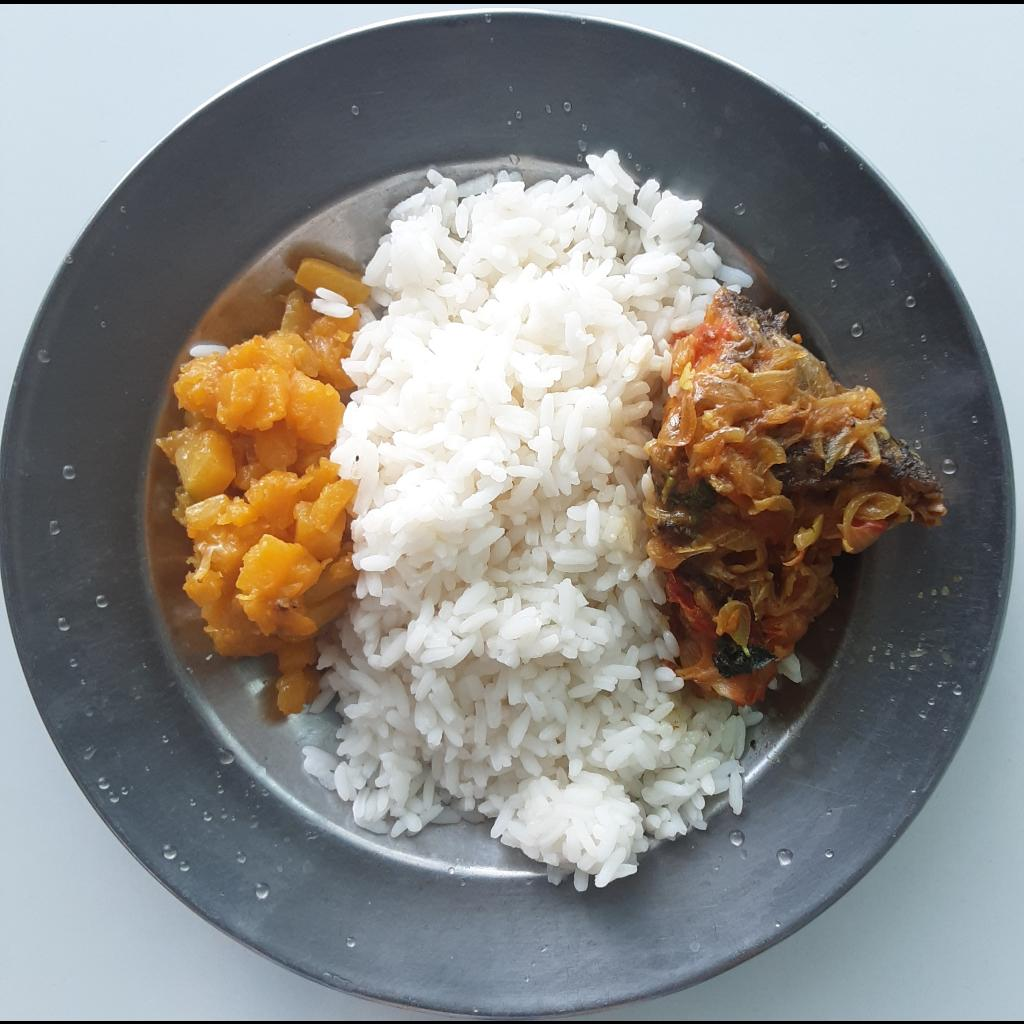fish: (651, 295, 948, 703)
kumra-vaji: (156, 255, 368, 706)
rice: (299, 141, 767, 891)
